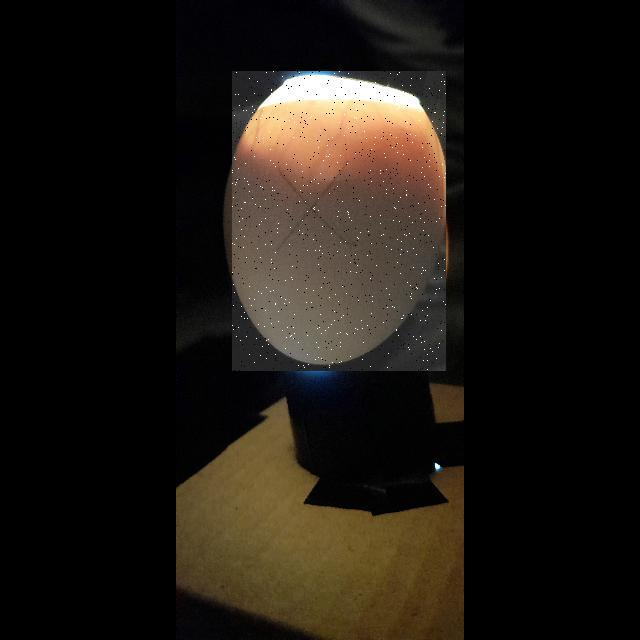Fertile: (232, 71, 446, 371)
